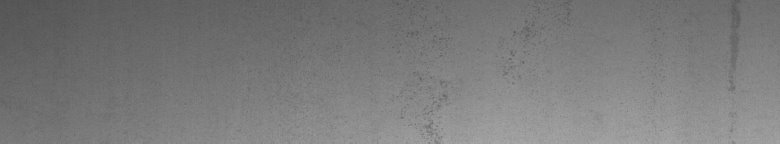ib: (402, 21, 536, 136)
